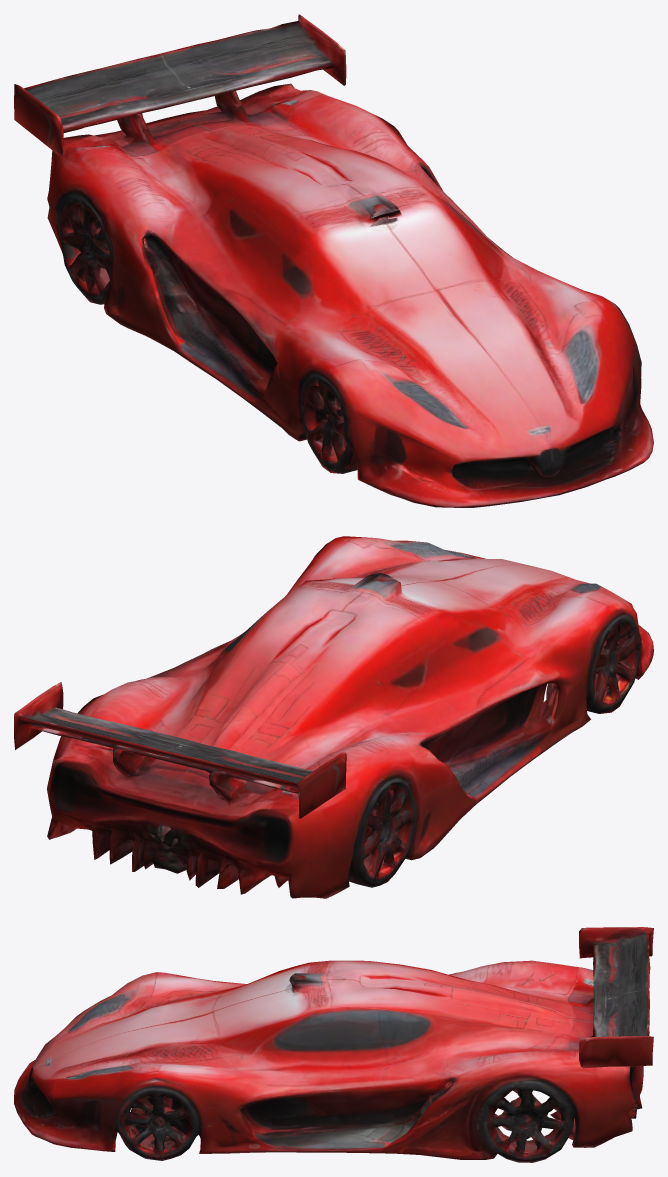
Rendered from racecar.glb.
3 views of the same model, one above another, from view 1: azimuth 30°, elevation 25°; view 2: azimuth 150°, elevation 25°; view 3: azimuth 270°, elevation 25° (orthographic). The views are drawn at different scales.
Size of the model in its own units: 0.9021 by 0.4475 by 2.01.
Materials: 1 (1 with a texture image).
